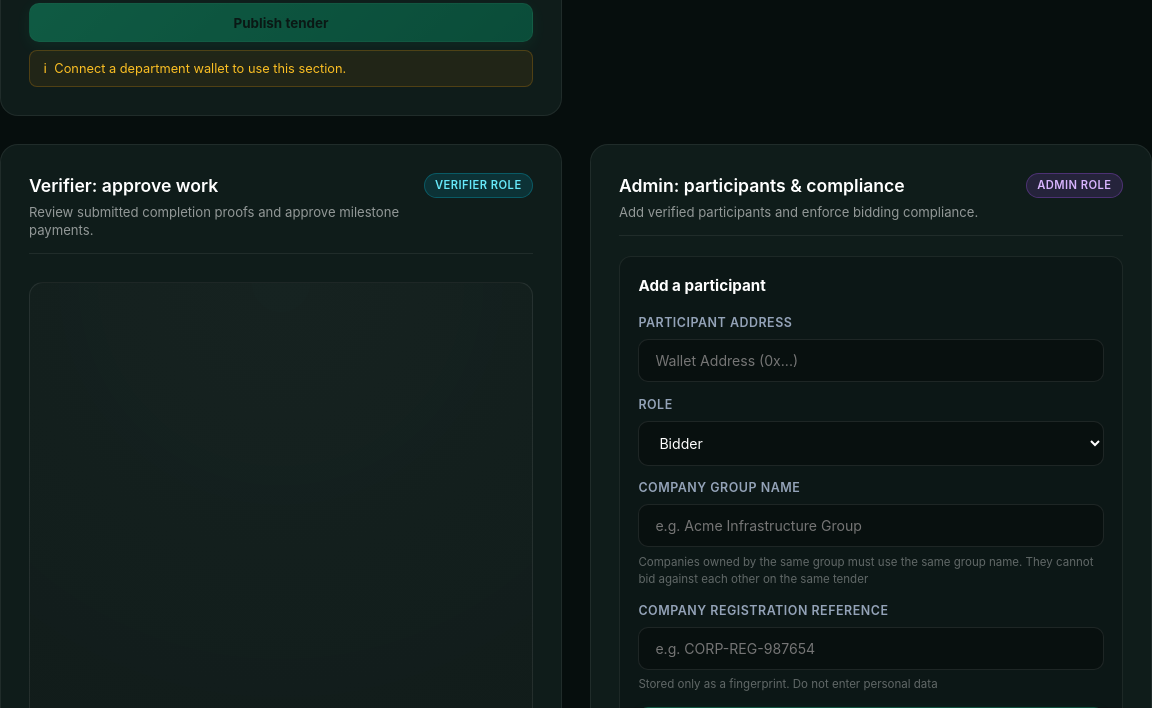
Error and Security Test Suite › validates participant addresses and displays error on malformed addresses
(page scrolled)
In the field with placeholder "Wallet Address (0x...)": (871, 360) [638,339,1104,382], type "invalid-address-format-0x123"
(page scrolled)
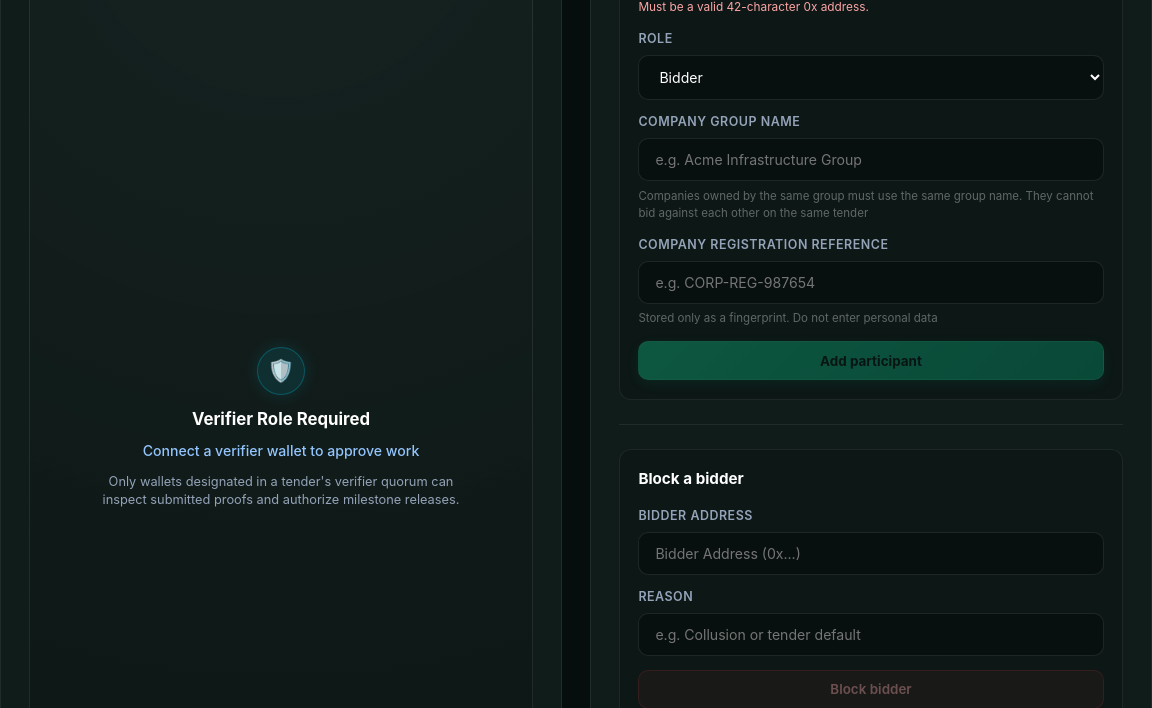
Check: the text "Must be a valid 42-character 0x address." is shown, box [638,0,869,14]
